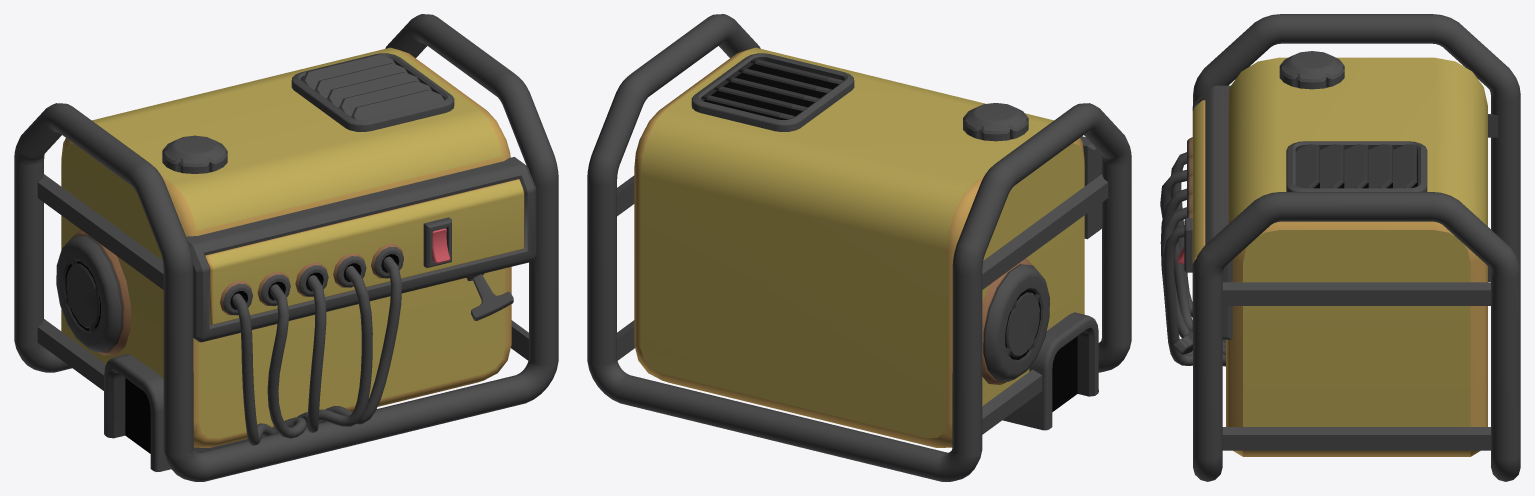
Rendered from Generator.fbx.
The picture shows the model from 3 angles, left to right: view 1: azimuth 30°, elevation 25°; view 2: azimuth 150°, elevation 25°; view 3: azimuth 270°, elevation 25°; orthographic projection.
Visible parts, largest first — view 1: Generator; view 2: Generator; view 3: Generator.
Boxes of the visible parts, x1=… form: Generator: x1=14, y1=14, x2=558, y2=481; Generator: x1=587, y1=14, x2=1131, y2=481; Generator: x1=1160, y1=14, x2=1520, y2=481.
Bounding box in the file's own units: 1.51 × 1.1 × 1.21.
